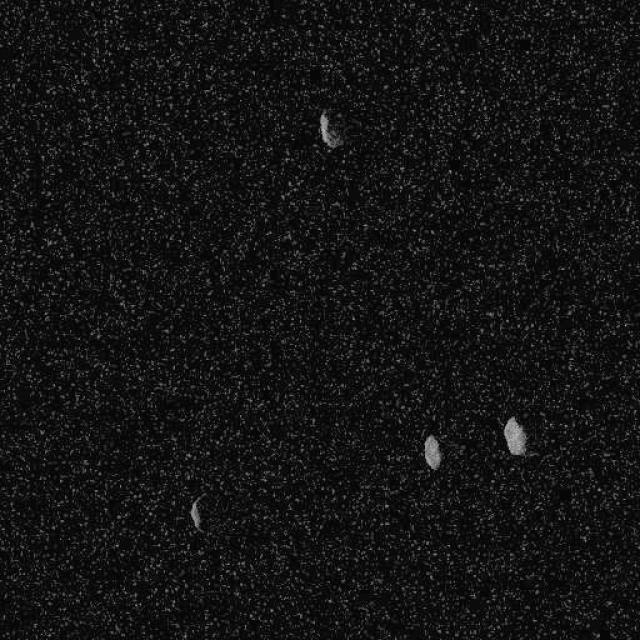D2: (502, 415, 528, 456), (317, 109, 343, 150), (421, 434, 441, 470), (189, 494, 205, 531)
